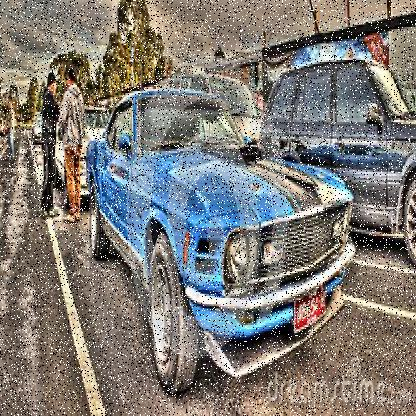licence: (288, 284, 327, 335)
